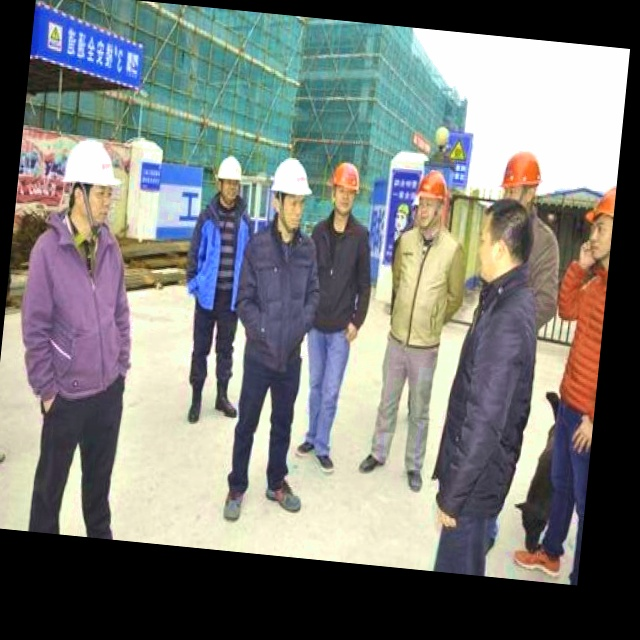Sin_Casco_Mascarrilla: (476, 199, 537, 285)
Sin_Chaleco: (13, 217, 138, 405), (239, 228, 317, 364)
